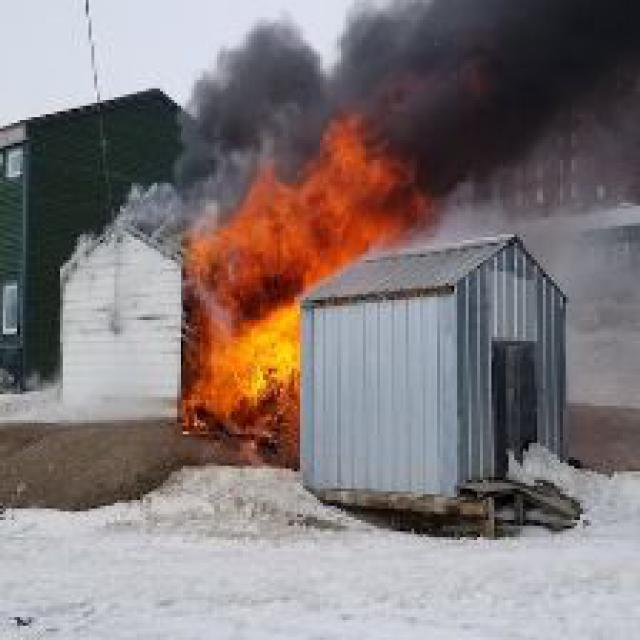fire: (177, 108, 437, 443)
